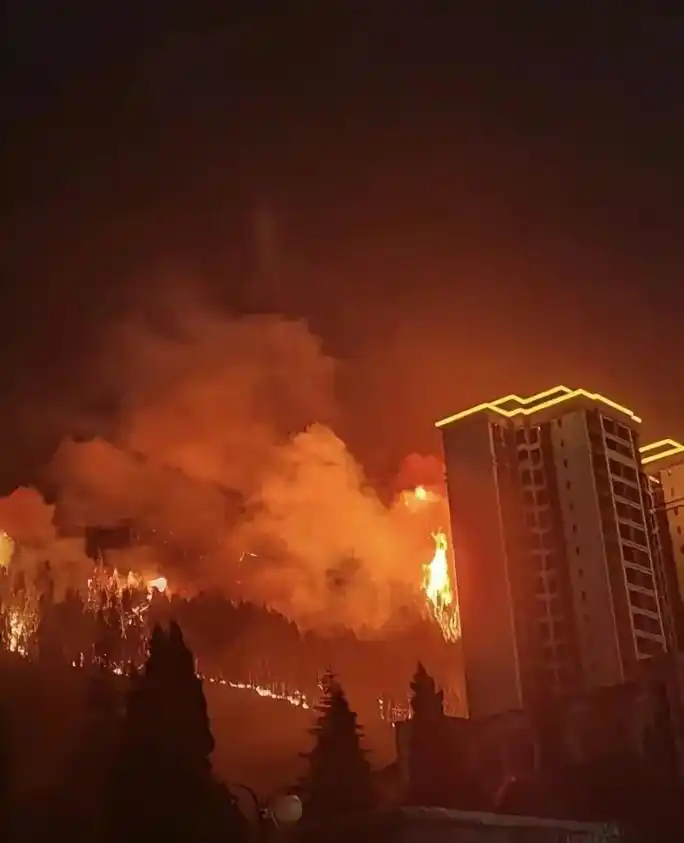fire: (4, 216, 461, 726)
